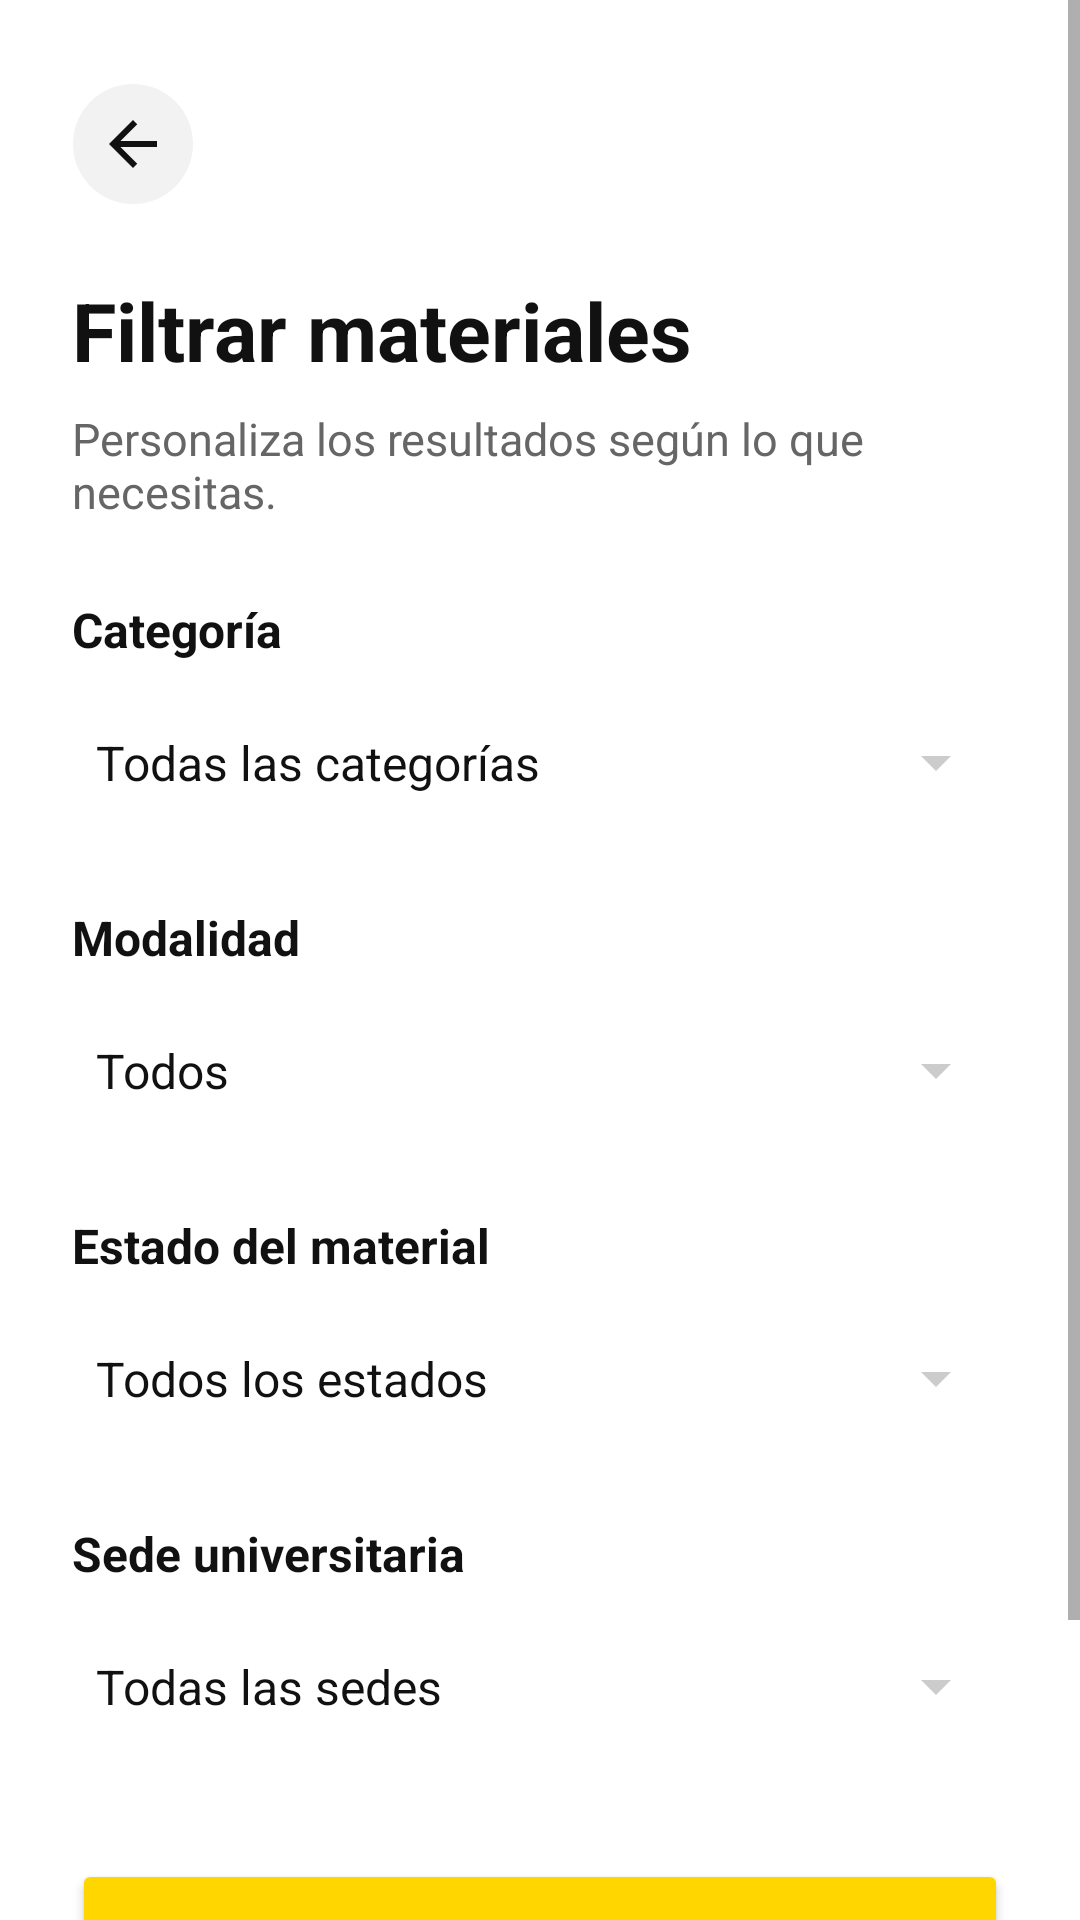

Named icons in this screenshot (1080x1920) and their centers, (x,y):
Regresar: (133,144)
